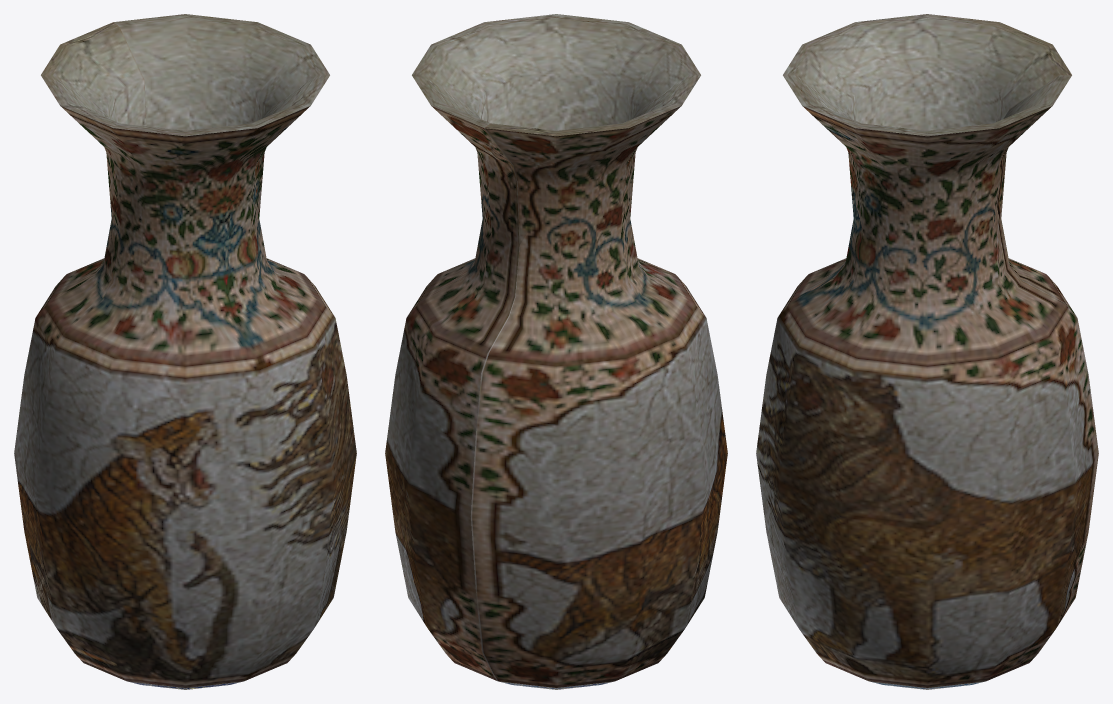
Rendered from vase.obj.
3 renders of one model, left to right at view 1: azimuth 30°, elevation 25°; view 2: azimuth 150°, elevation 25°; view 3: azimuth 270°, elevation 25°, orthographic.
Visible parts, largest first — view 1: HeavyThrownObject_Vase; view 2: HeavyThrownObject_Vase; view 3: HeavyThrownObject_Vase.
Part boxes in pixels (left/top/right/bottom): HeavyThrownObject_Vase: left=14, top=14, right=356, bottom=689; HeavyThrownObject_Vase: left=385, top=14, right=727, bottom=689; HeavyThrownObject_Vase: left=756, top=14, right=1098, bottom=689.
Bounding box in the file's own units: 58.2 × 108 × 58.2.
